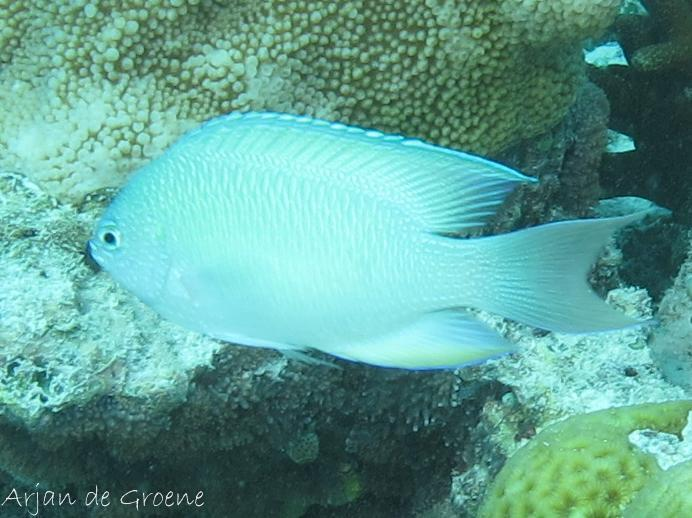Pomacentrus pavo: (55, 87, 665, 442)
